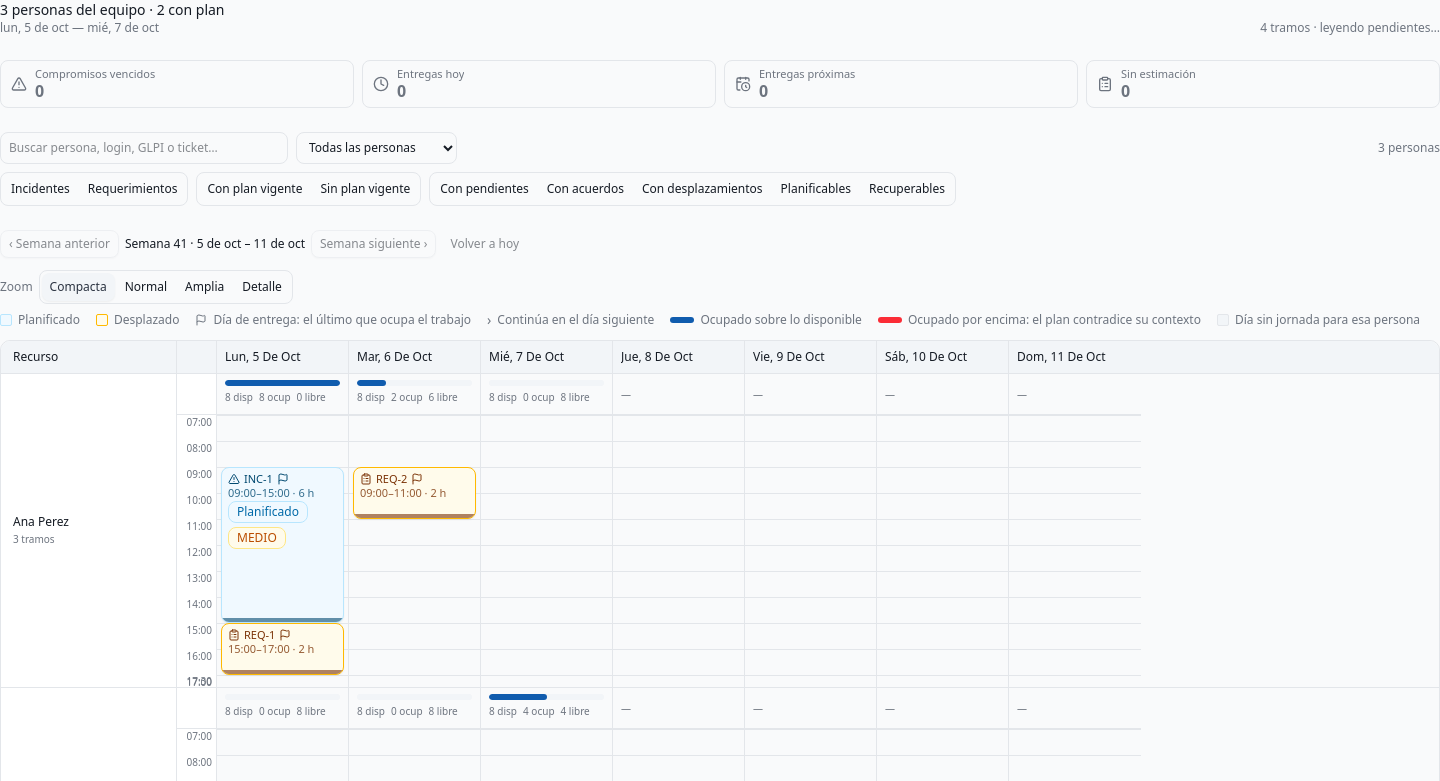
it: TeamTimeline › no ofrece renegociar un tramo que no se movió
The image size is (1440, 781).
Check: the text "Ana Perez" is shown, box [13, 513, 69, 530]
Click the button "INC-1 09:00–15:00 · 6 h Planificado MEDIO": [282, 545] box [221, 467, 344, 623]
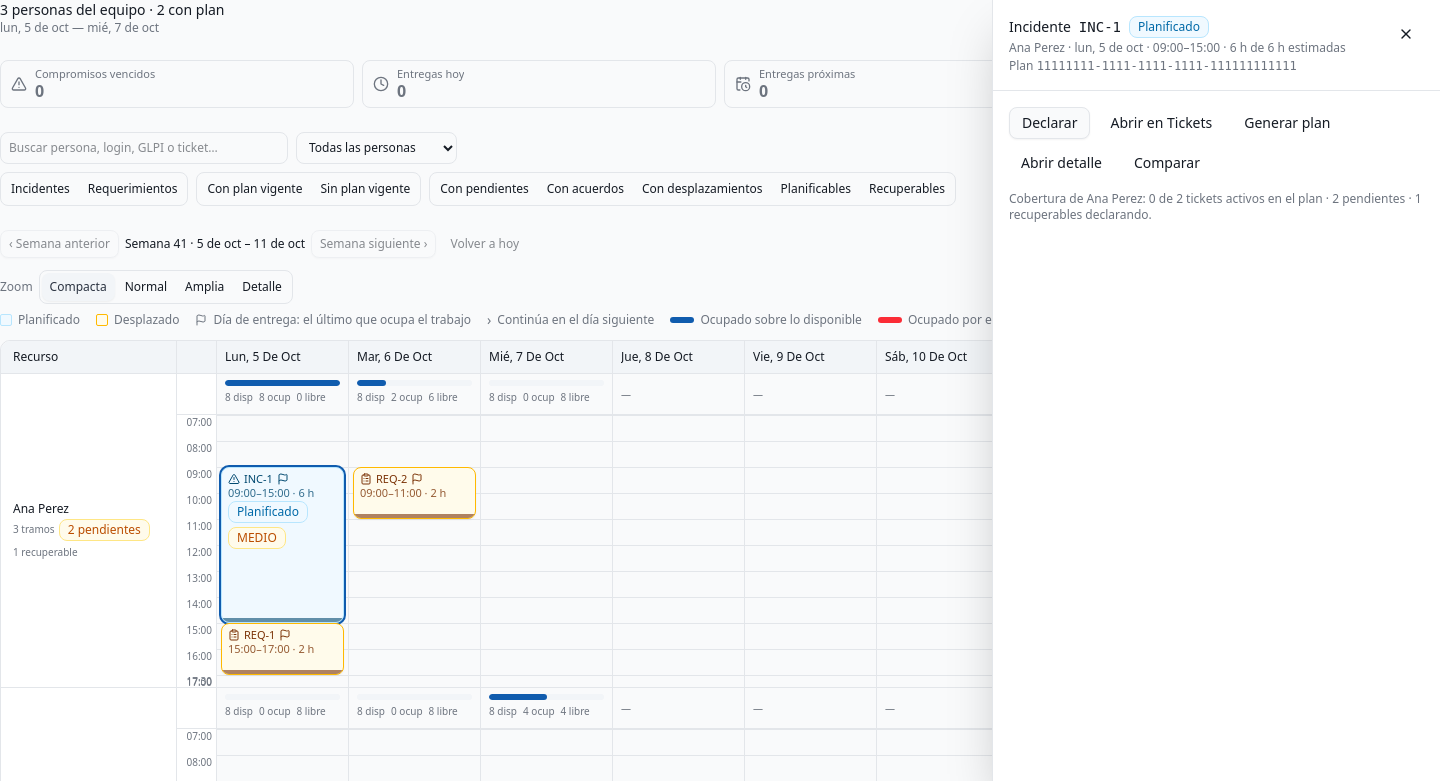
Check: the link "Declarar" is shown, box [1009, 107, 1090, 139]
Check: the link "Abrir detalle" is shown, box [1021, 153, 1102, 172]
